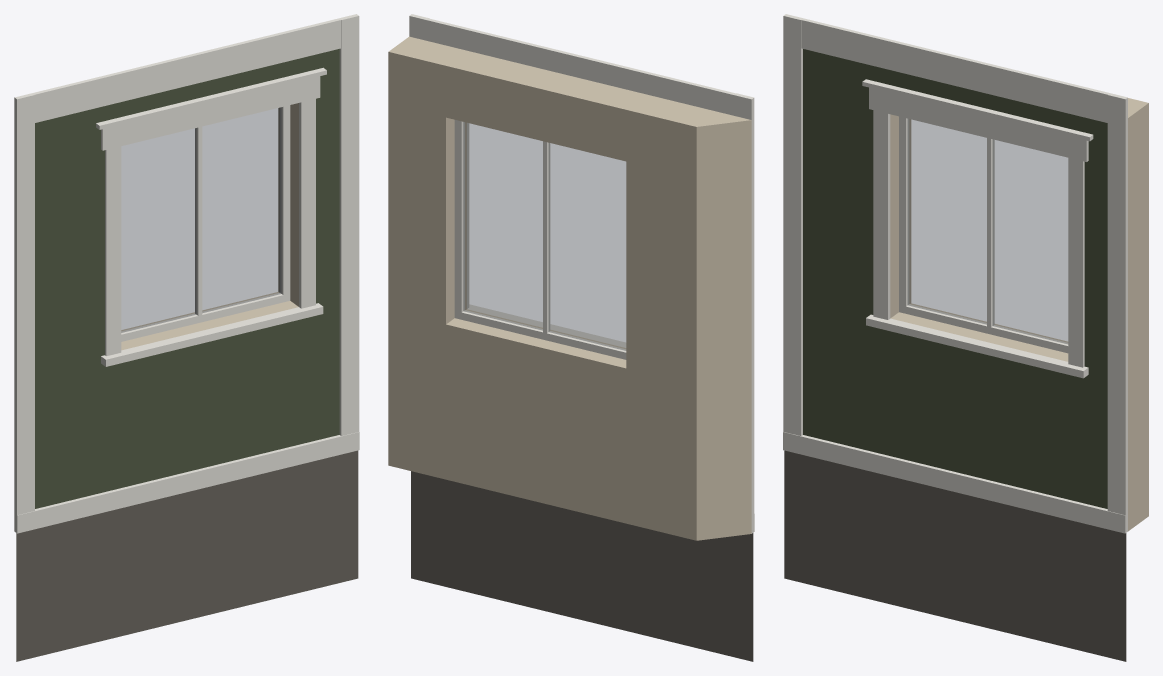
File: wall-10.glb
3 renders of one model, left to right at view 1: azimuth 30°, elevation 25°; view 2: azimuth 150°, elevation 25°; view 3: azimuth 330°, elevation 25°, orthographic.
Bounding box in the file's own units: 6.93 × 10.9 × 0.9294.
